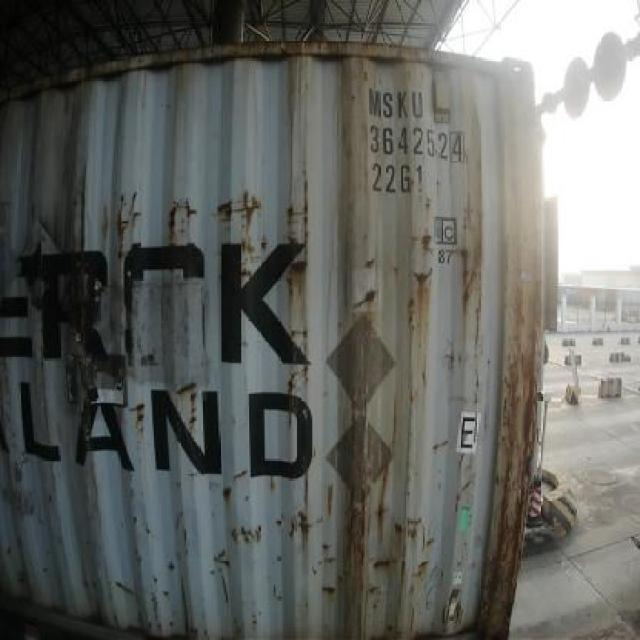ISO: (364, 156, 431, 196)
container_number: (372, 91, 466, 155)
